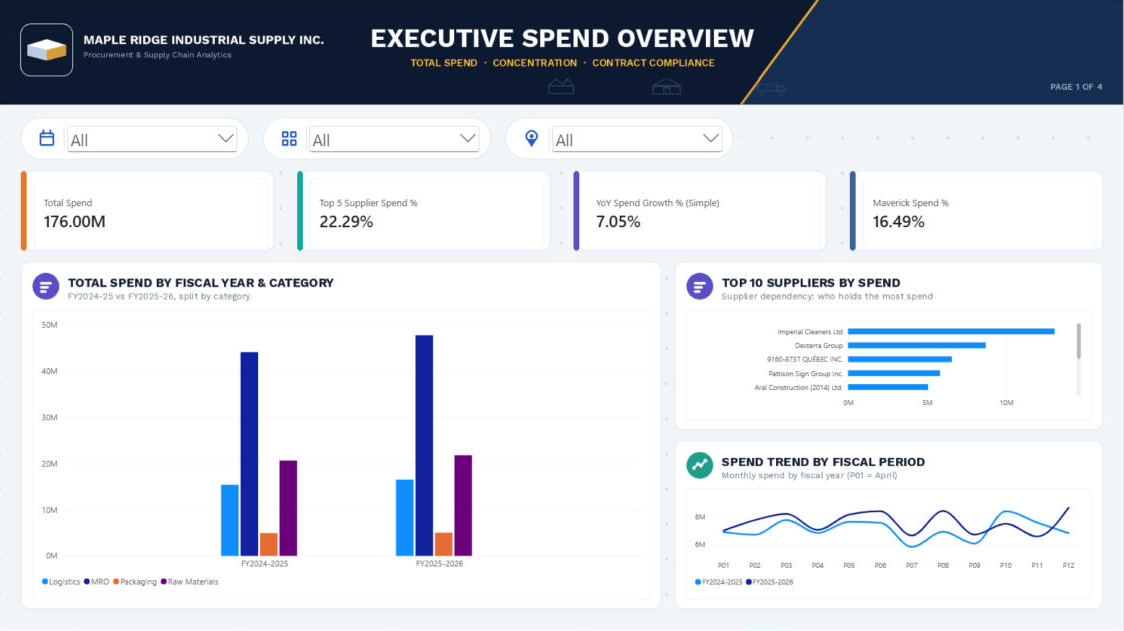

The dashboard page shown, as its layout file describes it:
{"tool":"powerbi","page":{"name":"Executive Overview","canvas":[1920,1080],"ordinal":0},"visuals":[{"type":"cardVisual","fields":{"Data":["Measure_Table.Total Spend"]},"box":[59,305,400,120],"z":0},{"type":"cardVisual","fields":{"Data":["Measure_Table.YoY Spend Growth % (Simple)"]},"box":[1003,305,400,120],"z":1000},{"type":"cardVisual","fields":{"Data":["Measure_Table.Maverick Spend %"]},"box":[1475,305,400,120],"z":2000},{"type":"cardVisual","fields":{"Data":["Measure_Table.Top 5 Supplier Spend %"]},"box":[531,305,400,120],"z":3000},{"type":"clusteredColumnChart","fields":{"Category":["PO_Transactions.Fiscal_Year"],"Series":["Dim_Category.Category"],"Y":["Measure_Table.Total Spend"]},"box":[55,530,1058,496],"z":4000},{"type":"clusteredBarChart","fields":{"Category":["Dim_Supplier.Supplier_Name"],"Y":["Measure_Table.Total Spend"]},"box":[1172,530,694,190],"z":5000},{"type":"slicer","fields":{"Values":["Dim_Date.Fiscal_Year"]},"box":[111,211,300,60],"z":6000},{"type":"slicer","fields":{"Values":["Dim_Category.Category"]},"box":[525,211,300,60],"z":7000},{"type":"slicer","fields":{"Values":["PO_Transactions.Plant_Location"]},"box":[939,211,300,60],"z":8000},{"type":"lineChart","fields":{"Category":["Dim_Date.Fiscal_Period"],"Series":["Dim_Date.Fiscal_Year"],"Y":["Measure_Table.Total Spend"]},"box":[1172,836,694,190],"z":9000}]}

Visuals, with their boxes in screenshot pixels (x1, y1, x2, y2), scaled from the page's 1920x1080 canvas onto the 1124x631 screenshot:
cardVisual - Measure_Table.Total Spend: select_region(35, 178, 269, 248)
cardVisual - Measure_Table.YoY Spend Growth % (Simple): select_region(587, 178, 821, 248)
cardVisual - Measure_Table.Maverick Spend %: select_region(863, 178, 1098, 248)
cardVisual - Measure_Table.Top 5 Supplier Spend %: select_region(311, 178, 545, 248)
clusteredColumnChart - PO_Transactions.Fiscal_Year x Dim_Category.Category: select_region(32, 310, 652, 599)
clusteredBarChart - Dim_Supplier.Supplier_Name x Measure_Table.Total Spend: select_region(686, 310, 1092, 421)
slicer - Dim_Date.Fiscal_Year: select_region(65, 123, 241, 158)
slicer - Dim_Category.Category: select_region(307, 123, 483, 158)
slicer - PO_Transactions.Plant_Location: select_region(550, 123, 725, 158)
lineChart - Dim_Date.Fiscal_Period x Dim_Date.Fiscal_Year: select_region(686, 488, 1092, 599)
